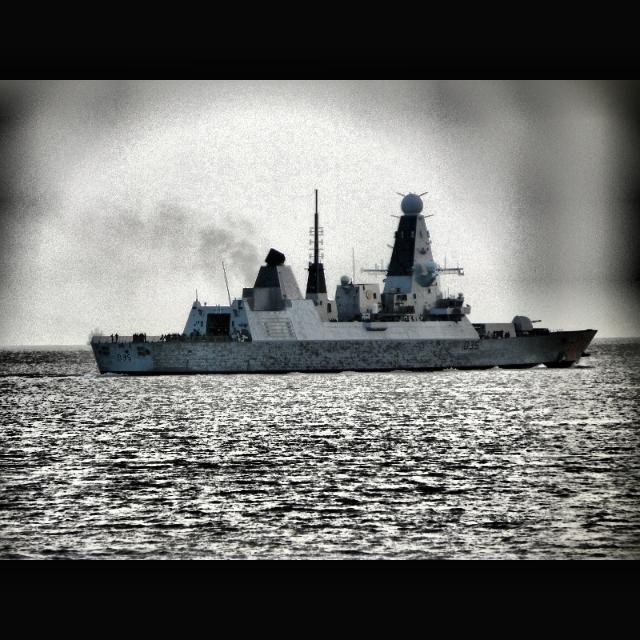combat_vessel: (90, 185, 600, 377)
